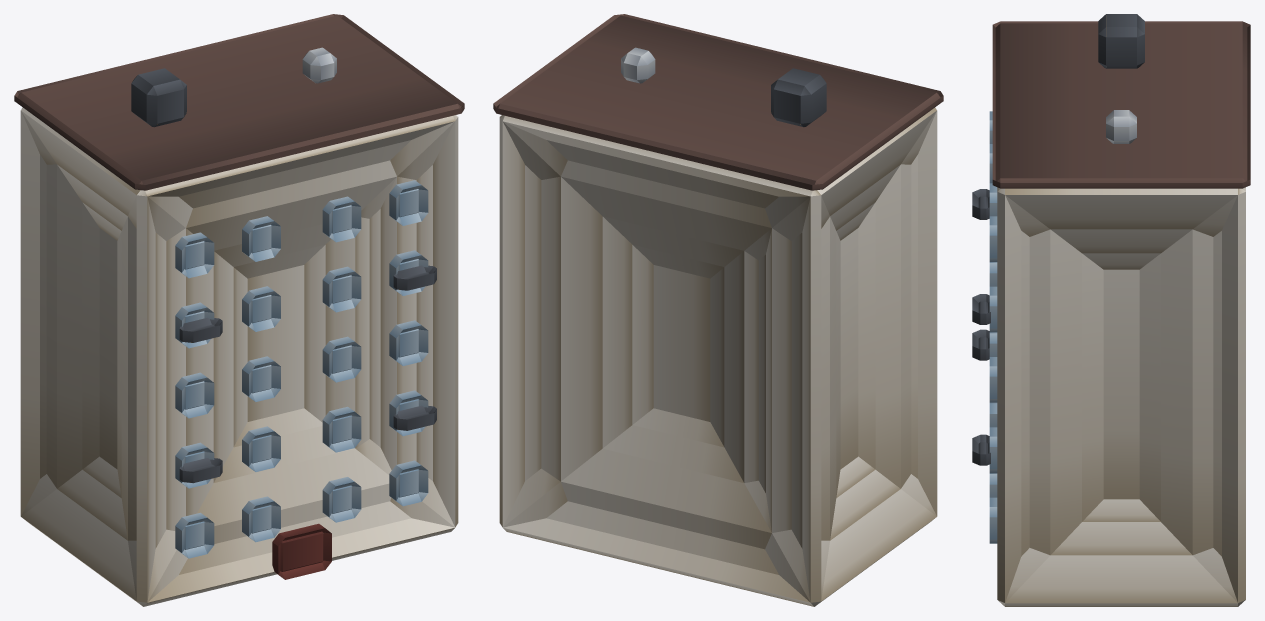
The model's file is dt_apartment_block.fbx.
3 views of the same model, side by side, from view 1: azimuth 30°, elevation 25°; view 2: azimuth 150°, elevation 25°; view 3: azimuth 270°, elevation 25° (orthographic).
Parts seen in each view (by area): view 1: dt_apartment_block; view 2: dt_apartment_block; view 3: dt_apartment_block.
Boxes of the visible parts, bbox=[...] form: dt_apartment_block: bbox=[14, 14, 464, 606]; dt_apartment_block: bbox=[493, 14, 943, 606]; dt_apartment_block: bbox=[972, 14, 1250, 606].
Bounding box in the file's own units: 2937 × 4000 × 2137.
